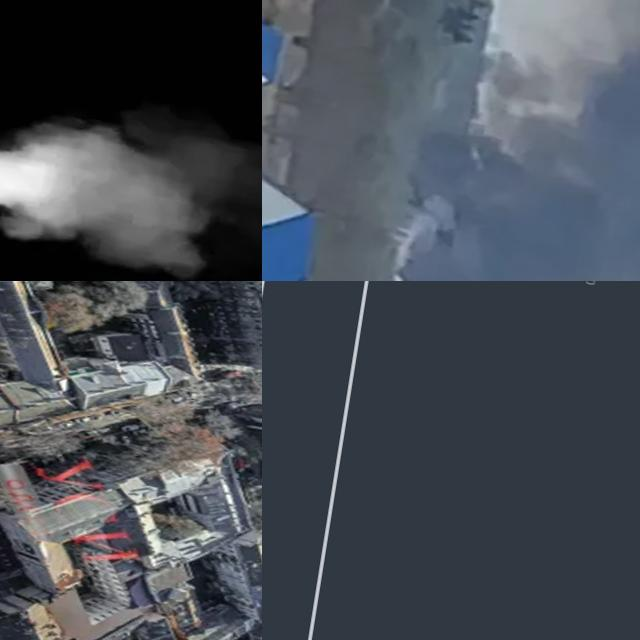smoke: (363, 0, 640, 281), (0, 53, 262, 281)
